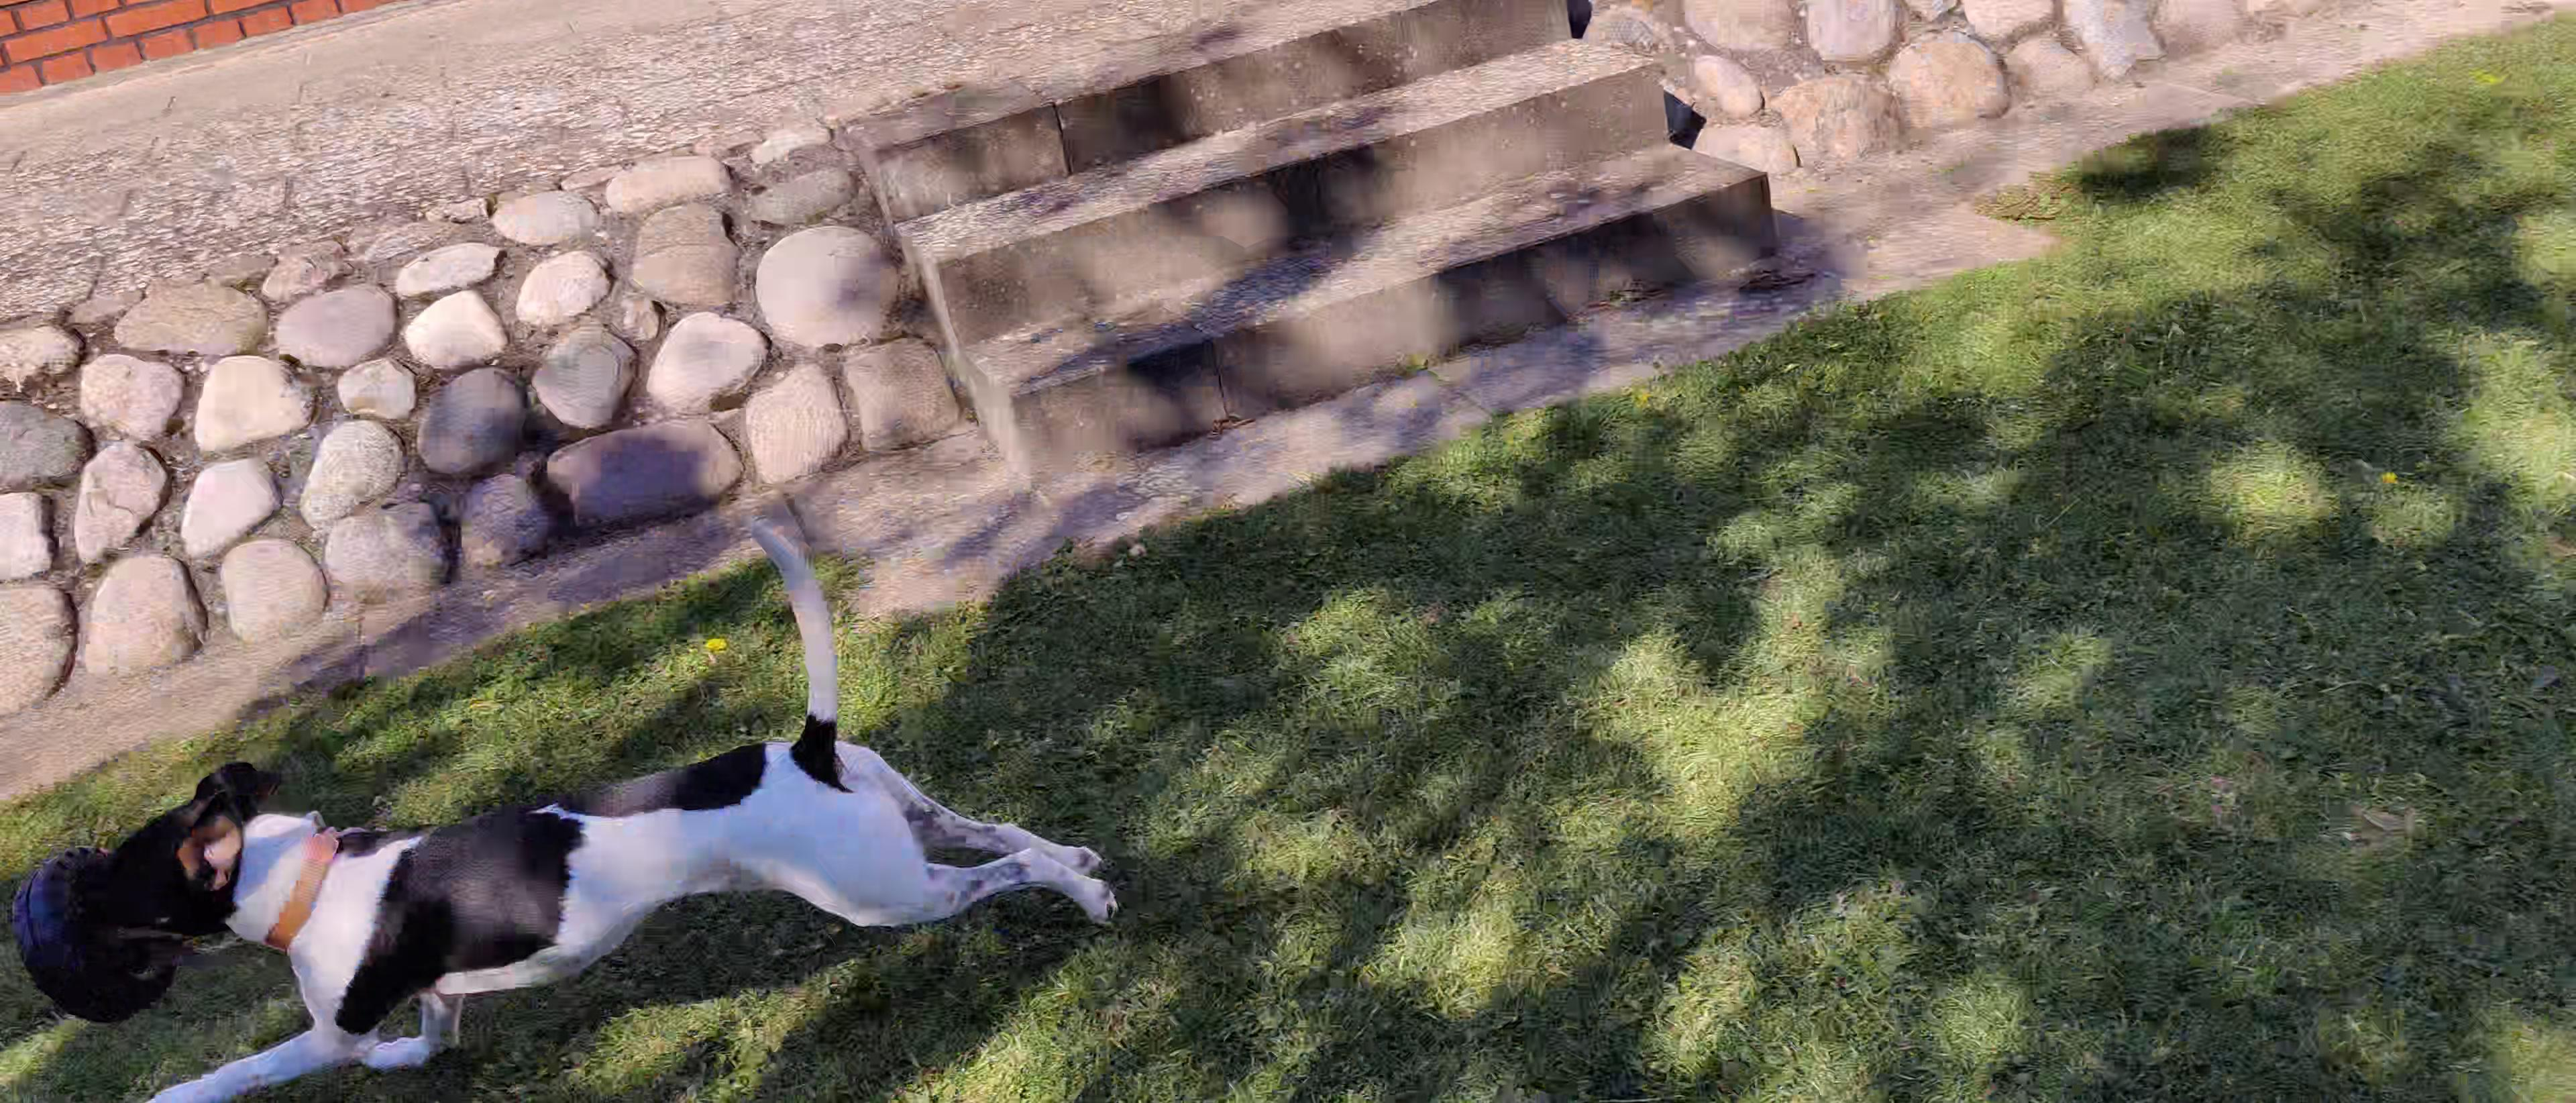Dog: (54, 498, 1132, 1103)
